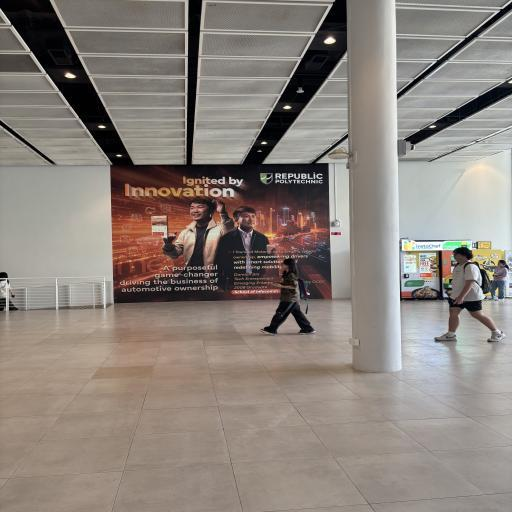person_left: (438, 242, 504, 349), (256, 252, 322, 342)
